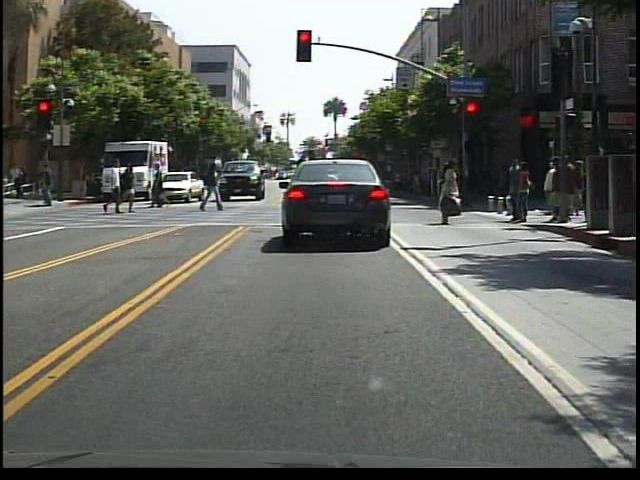person: (288, 135, 324, 233), (430, 159, 468, 227), (202, 161, 229, 216), (103, 159, 127, 219), (37, 162, 63, 214), (149, 161, 169, 213), (123, 165, 140, 214)
